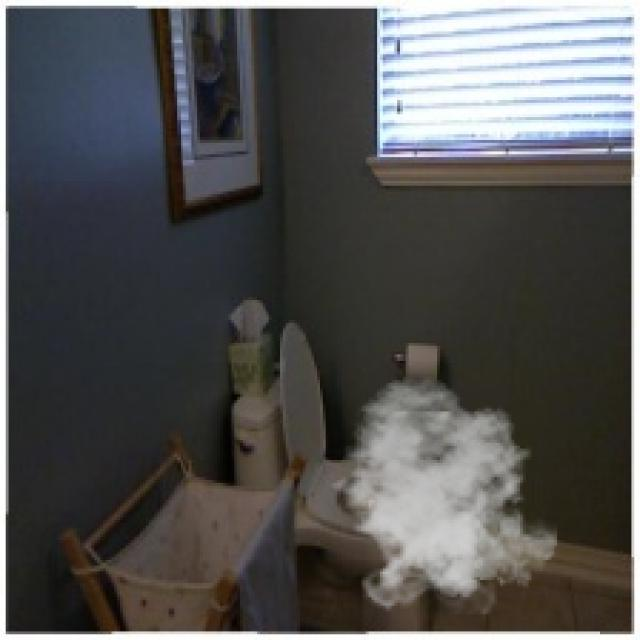smoke: (320, 377, 557, 614)
